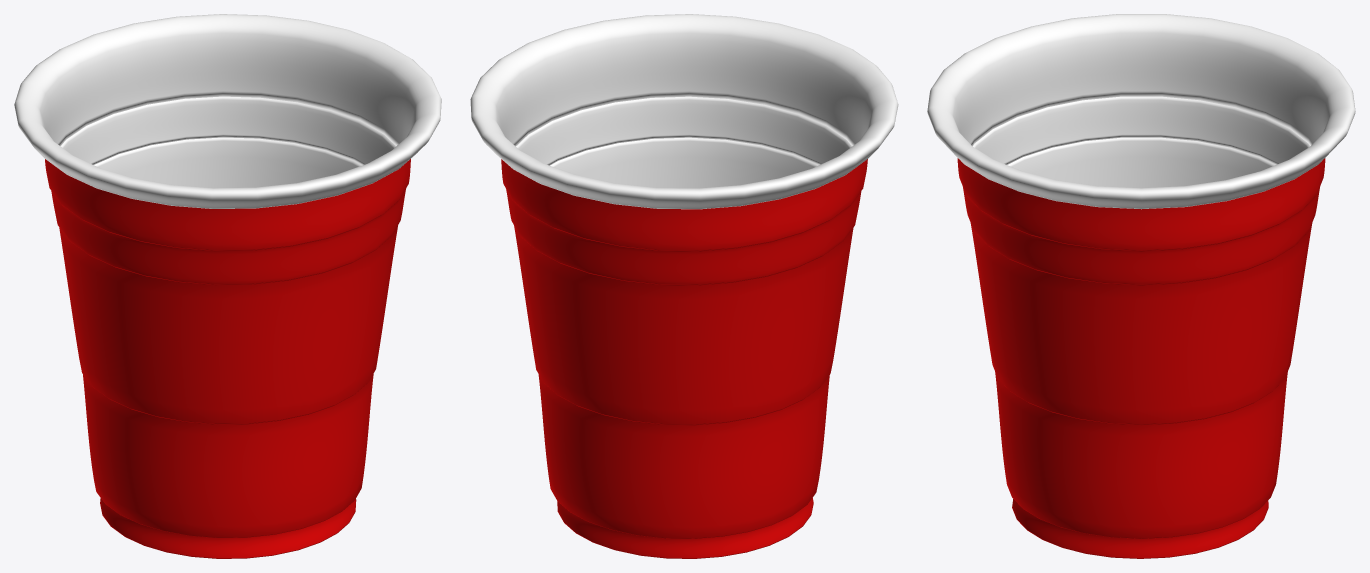
Rendered from cup_1f9e92f74256.glb.
The picture shows the model from 3 angles, left to right: view 1: azimuth 30°, elevation 25°; view 2: azimuth 150°, elevation 25°; view 3: azimuth 270°, elevation 25°; orthographic projection.
Parts seen in each view (by area): view 1: RedMiniCups; view 2: RedMiniCups; view 3: RedMiniCups.
Part boxes in pixels (<box>): RedMiniCups: <box>14,14,441,558</box>; RedMiniCups: <box>470,14,898,558</box>; RedMiniCups: <box>927,14,1355,558</box>.
Bounding box in the file's own units: 5.16 × 5.36 × 5.16.
